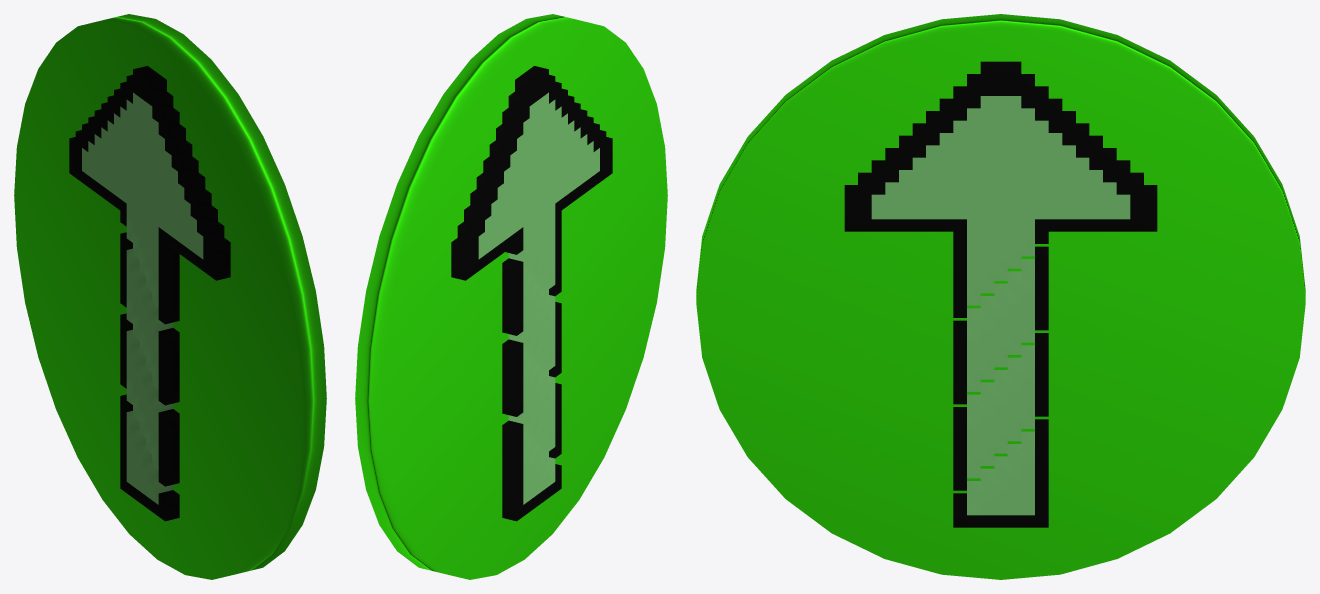
The model's file is accelerateicon2.fbx.
The picture shows the model from 3 angles, left to right: view 1: azimuth 30°, elevation 25°; view 2: azimuth 150°, elevation 25°; view 3: azimuth 270°, elevation 25°; orthographic projection. The views are drawn at different scales.
Visible parts, largest first — view 1: Cylinder.001; view 2: Cylinder.001; view 3: Cylinder.001.
Boxes of the visible parts, bbox=[...] form: Cylinder.001: bbox=[14, 14, 326, 579]; Cylinder.001: bbox=[355, 14, 667, 579]; Cylinder.001: bbox=[696, 14, 1305, 579].
Bounding box in the file's own units: 44.11 × 368 × 368.
